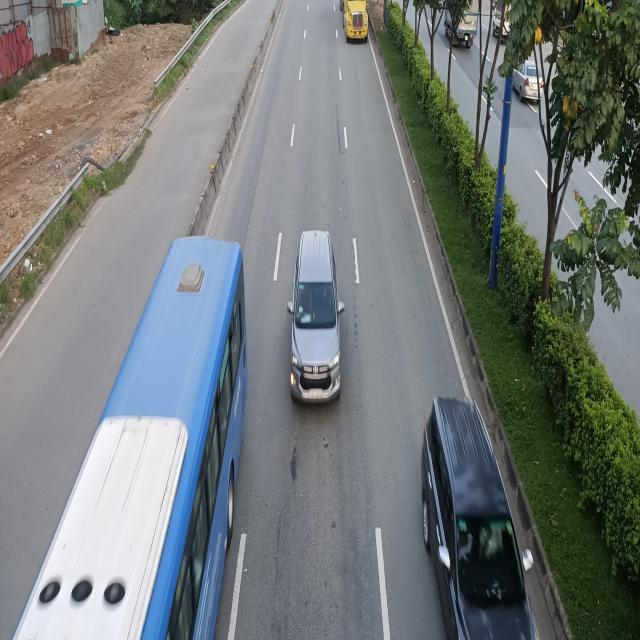car: (419, 400, 549, 640), (286, 233, 344, 407)
coach: (0, 240, 251, 640)
container: (341, 0, 370, 41)
